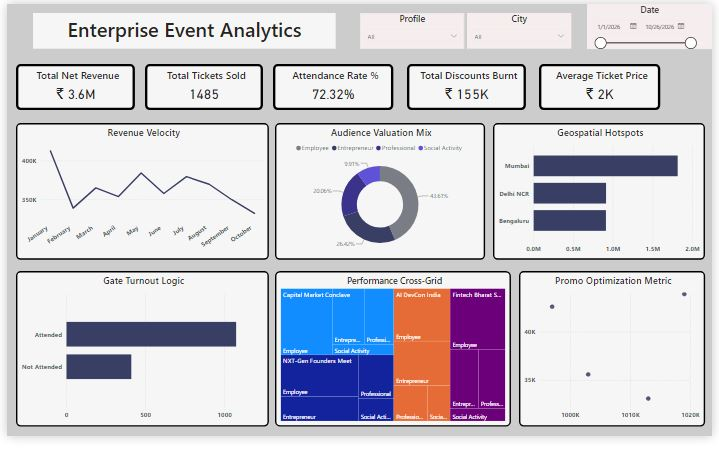

Layout of this report page (visuals, bound fields, positions):
{"tool":"powerbi","page":{"name":"Page 1","canvas":[1500,920],"ordinal":0},"visuals":[{"type":"textbox","box":[55.6,20,644.4,75.6],"z":0},{"type":"card","title":"Total Net Revenue","fields":{"Values":["clean_event_ledger.Revenue"]},"box":[20,126.7,253.3,97.8],"z":1000},{"type":"card","title":"Total Tickets Sold","fields":{"Values":["clean_event_ledger.Total Tickets Sold"]},"box":[293.3,126.7,251.1,97.8],"z":2000},{"type":"card","title":"Attendance Rate %","fields":{"Values":["clean_event_ledger.Attendance Rate %"]},"box":[566.7,126.7,255.6,97.8],"z":3000},{"type":"card","title":"Total Discounts Burnt","fields":{"Values":["Sum(clean_event_ledger.DiscountAmount_INR)"]},"box":[851.1,126.7,253.3,97.8],"z":4000},{"type":"card","title":"Average Ticket Price","fields":{"Values":["Avg(clean_event_ledger.TicketSellingPrice_INR)"]},"box":[1131.1,126.7,257.8,97.8],"z":5000},{"type":"lineChart","title":"Revenue Velocity","fields":{"Category":["clean_event_ledger.OrderTimestamp.Variation.Date Hierarchy.Month1"],"Y":["Sum(clean_event_ledger.NetRevenue_INR)"]},"box":[20,253.3,537.8,291.1],"z":6000},{"type":"donutChart","title":"Audience Valuation Mix","fields":{"Y":["Sum(clean_event_ledger.NetRevenue_INR)"],"Category":["clean_event_ledger.AttendeeProfile"]},"box":[571.1,253.3,446.7,291.1],"z":7000},{"type":"clusteredBarChart","title":"Geospatial Hotspots","fields":{"Category":["clean_event_ledger.EventCity"],"Y":["Sum(clean_event_ledger.NetRevenue_INR)"]},"box":[1033.3,253.3,451.1,291.1],"z":8000},{"type":"barChart","title":"Gate Turnout Logic","fields":{"Category":["clean_event_ledger.CheckInStatus"],"Y":["clean_event_ledger.Total Tickets Sold"]},"box":[20,568.9,537.8,331.1],"z":9000},{"type":"treemap","title":"Performance Cross-Grid","fields":{"Group":["clean_event_ledger.EventName"],"Details":["clean_event_ledger.AttendeeProfile"],"Values":["Sum(clean_event_ledger.NetRevenue_INR)"]},"box":[571.1,568.9,502.2,331.1],"z":10000},{"type":"scatterChart","title":"Promo Optimization Metric","fields":{"Category":["clean_event_ledger.EventName"],"X":["Sum(clean_event_ledger.BasePrice_INR)"],"Y":["Sum(clean_event_ledger.DiscountAmount_INR)"]},"box":[1088.9,568.9,395.6,331.1],"z":11000},{"type":"slicer","title":"City","fields":{"Values":["clean_event_ledger.EventCity"]},"box":[977.8,20,222.2,75.6],"z":12000},{"type":"slicer","title":"Profile","fields":{"Values":["clean_event_ledger.AttendeeProfile"]},"box":[751.1,20,222.2,75.6],"z":13000},{"type":"slicer","title":"Date","fields":{"Values":["clean_event_ledger.OrderTimestamp"]},"box":[1233.3,0,266.7,95.6],"z":14000}]}

Visuals, with their boxes in screenshot pixels (x1, y1, x2, y2), scaled from the page's 1500x920 canvas onto the 719x450 screenshot:
textbox: <bbox>27, 10, 336, 47</bbox>
"Total Net Revenue" card: <bbox>10, 62, 131, 110</bbox>
"Total Tickets Sold" card: <bbox>141, 62, 261, 110</bbox>
"Attendance Rate %" card: <bbox>272, 62, 394, 110</bbox>
"Total Discounts Burnt" card: <bbox>408, 62, 529, 110</bbox>
"Average Ticket Price" card: <bbox>542, 62, 666, 110</bbox>
"Revenue Velocity" lineChart: <bbox>10, 124, 267, 266</bbox>
"Audience Valuation Mix" donutChart: <bbox>274, 124, 488, 266</bbox>
"Geospatial Hotspots" clusteredBarChart: <bbox>495, 124, 712, 266</bbox>
"Gate Turnout Logic" barChart: <bbox>10, 278, 267, 440</bbox>
"Performance Cross-Grid" treemap: <bbox>274, 278, 514, 440</bbox>
"Promo Optimization Metric" scatterChart: <bbox>522, 278, 712, 440</bbox>
"City" slicer: <bbox>469, 10, 575, 47</bbox>
"Profile" slicer: <bbox>360, 10, 467, 47</bbox>
"Date" slicer: <bbox>591, 0, 718, 47</bbox>
